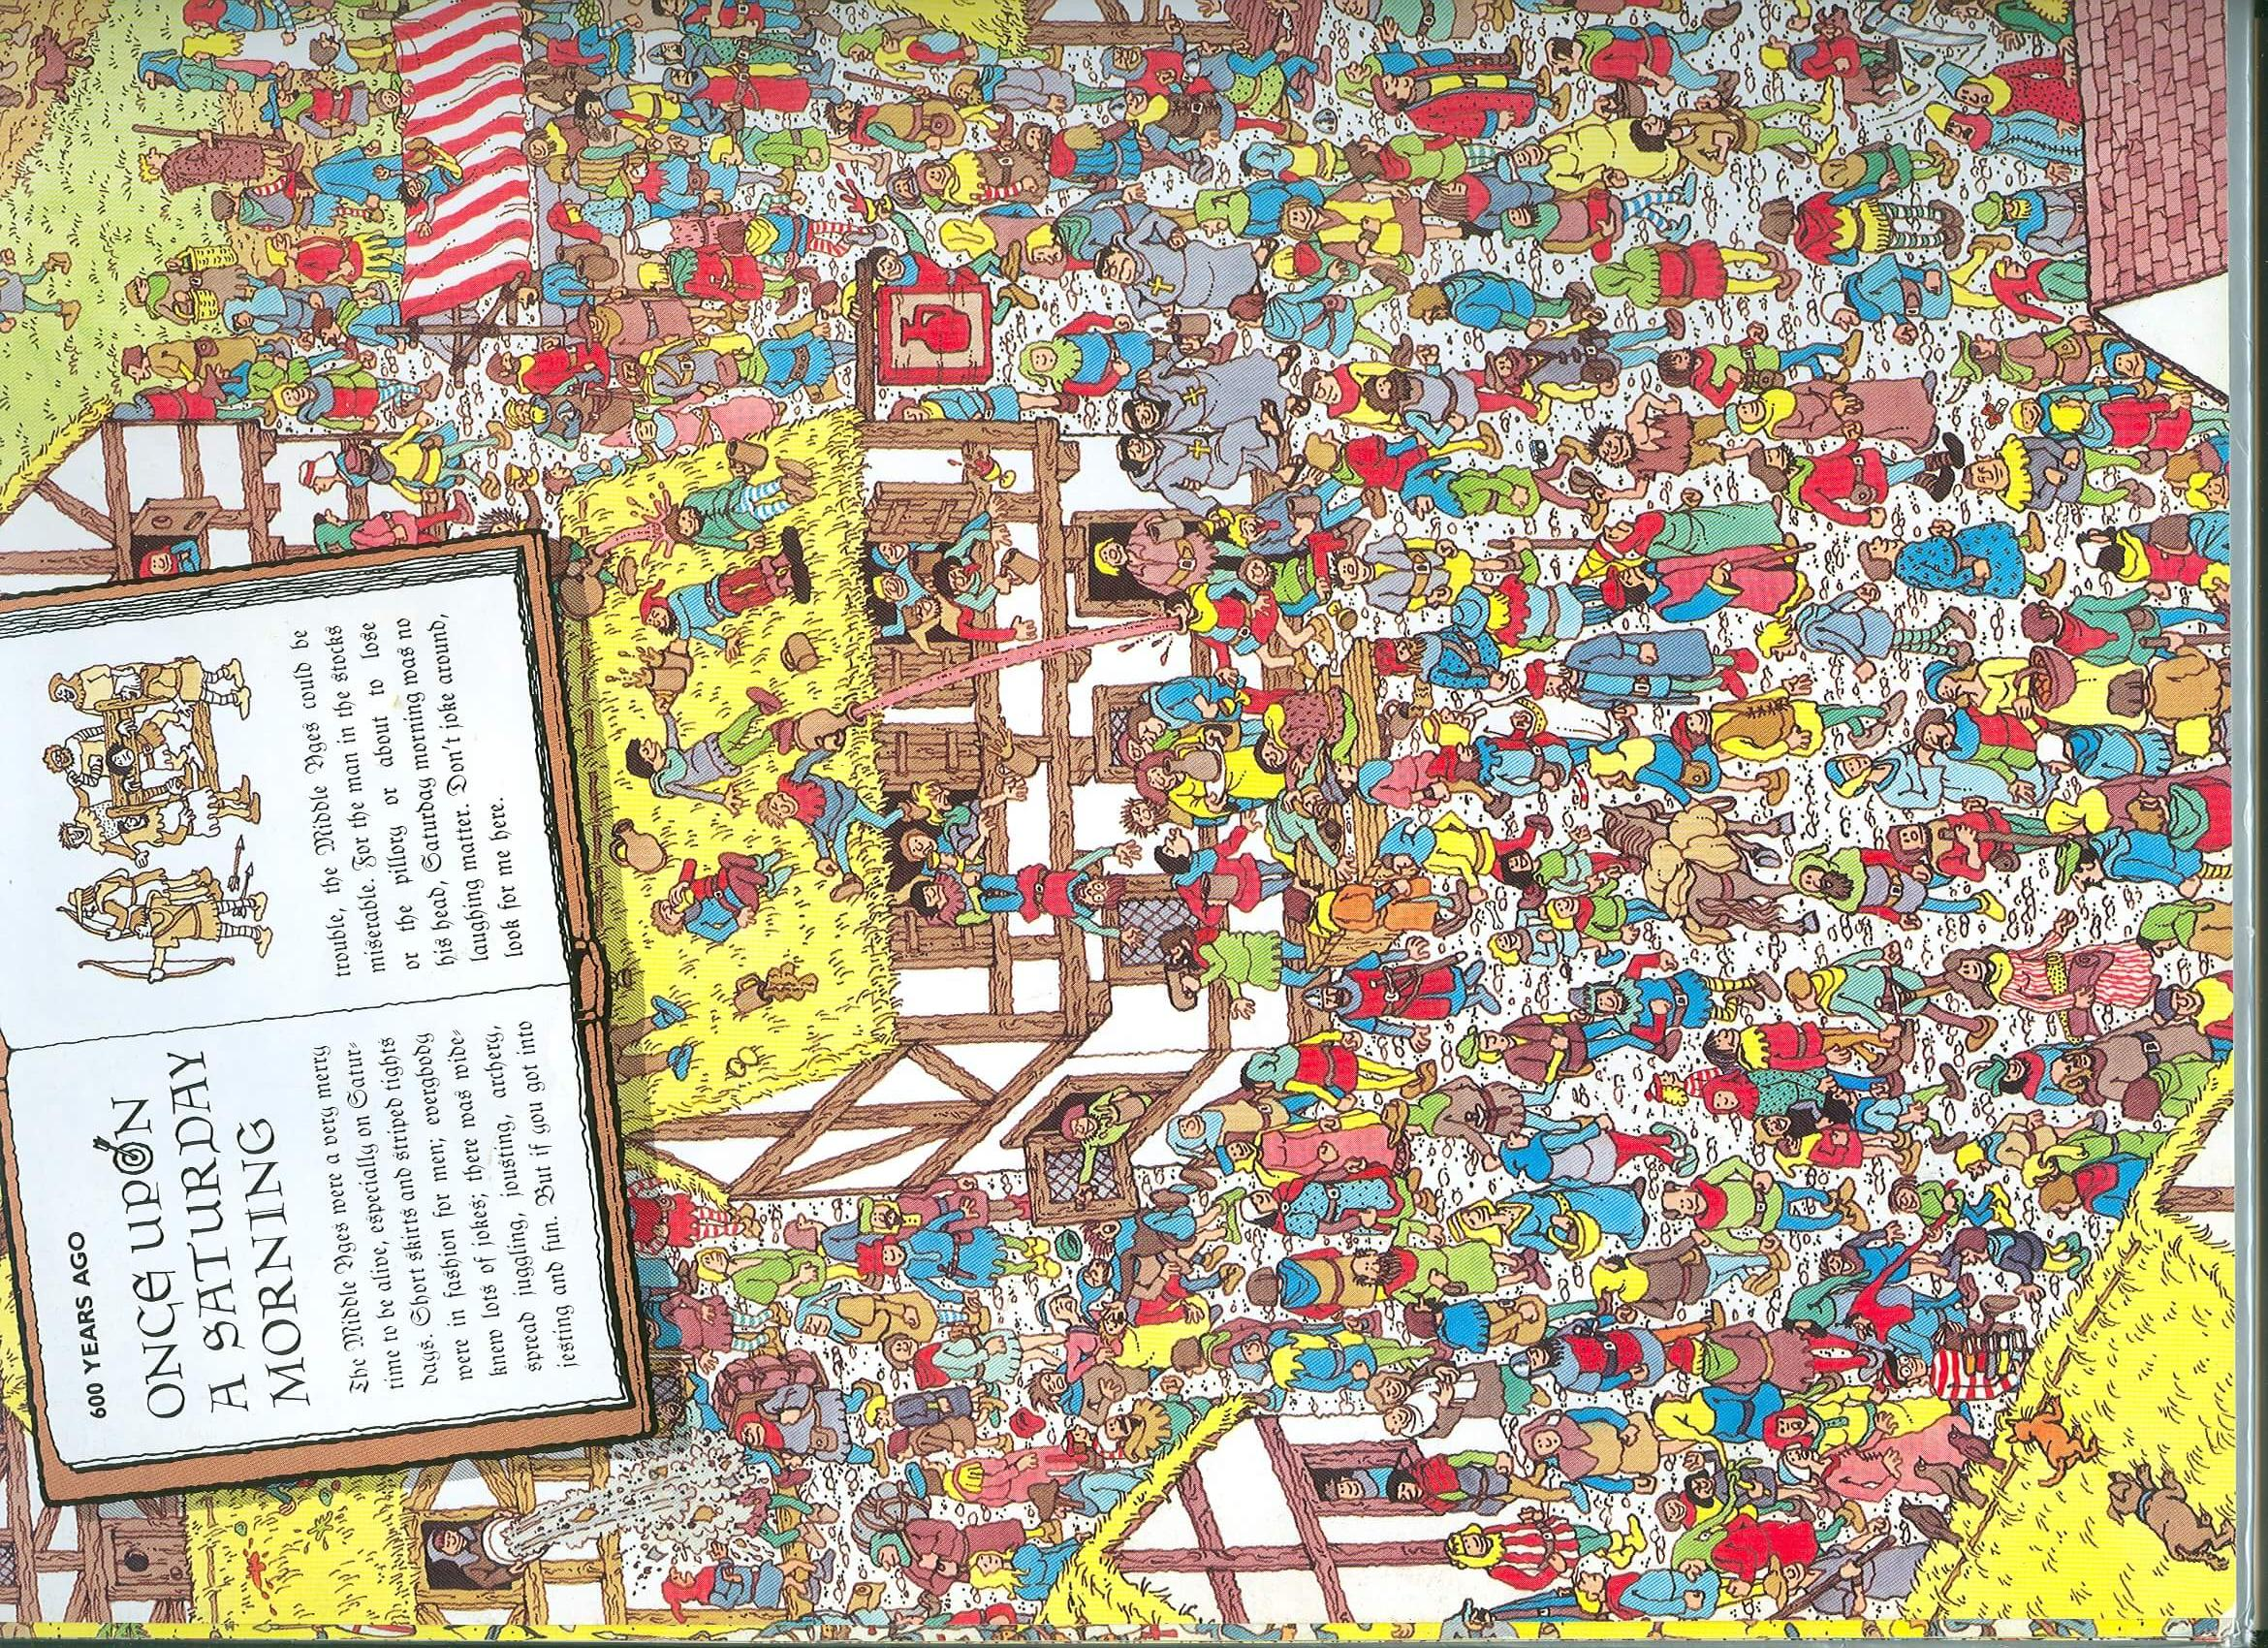waldos: (1870, 1317, 2034, 1403)
